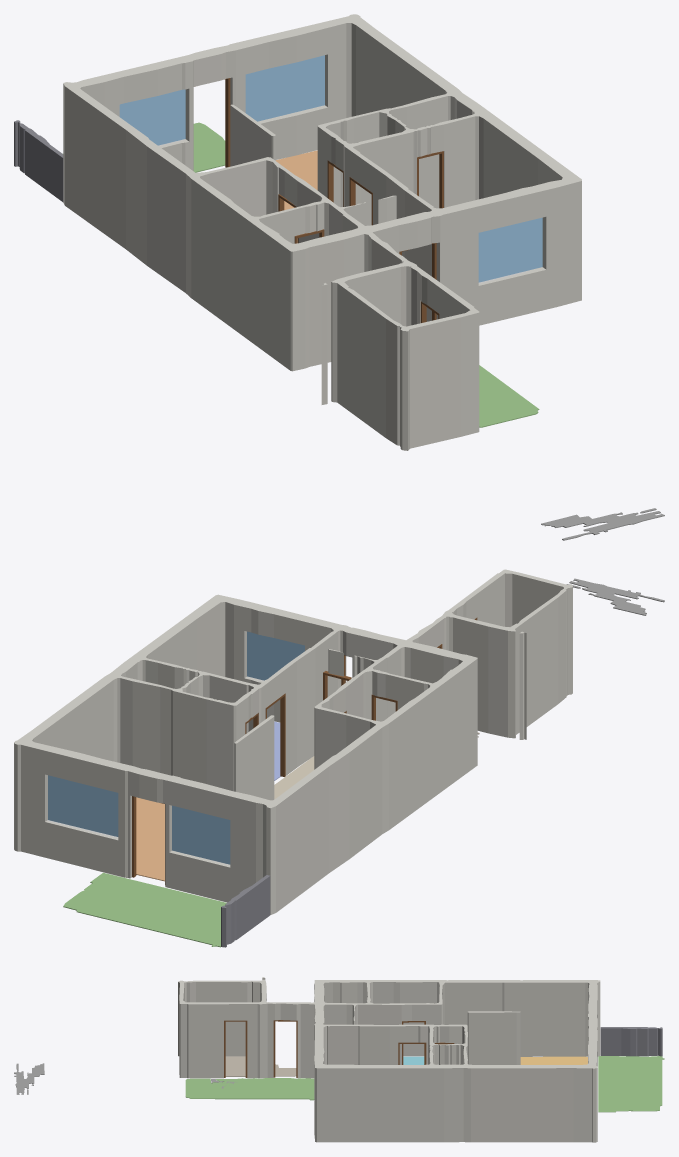
3 views of the same model, one above another, from view 1: azimuth 30°, elevation 25°; view 2: azimuth 150°, elevation 25°; view 3: azimuth 270°, elevation 25° (orthographic). The views are drawn at different scales.
Parts seen in each view (by area): view 1: walls, window_11, window_12, window_10, railings, floor_0_Outdoor, floor_11_Garage, floor_1_Outdoor, floor_3_Living_Room; view 2: walls, floor_1_Outdoor, window_11, window_10, floor_3_Living_Room, railings, window_12, floor_11_Garage, floor_7_Entry; view 3: walls, floor_1_Outdoor, floor_0_Outdoor, railings, floor_2_Kitchen, floor_11_Garage, floor_8_Storage, door_8, door_9.
Part boxes in pixels (bbox=[...]): walls: bbox=[63, 14, 581, 450]; window_11: bbox=[245, 55, 324, 121]; window_12: bbox=[478, 217, 542, 282]; window_10: bbox=[119, 89, 185, 145]; railings: bbox=[14, 120, 63, 201]; floor_0_Outdoor: bbox=[479, 365, 539, 427]; floor_11_Garage: bbox=[541, 508, 664, 540]; floor_1_Outdoor: bbox=[193, 122, 225, 172]; floor_3_Living_Room: bbox=[275, 150, 317, 242]; walls: bbox=[14, 569, 572, 914]; floor_1_Outdoor: bbox=[63, 872, 226, 947]; window_11: bbox=[48, 775, 118, 836]; window_10: bbox=[172, 805, 230, 864]; floor_3_Living_Room: bbox=[136, 797, 164, 881]; railings: bbox=[221, 875, 270, 947]; window_12: bbox=[247, 631, 304, 680]; floor_11_Garage: bbox=[566, 578, 664, 615]; floor_7_Entry: bbox=[274, 756, 314, 799]; walls: bbox=[178, 977, 600, 1142]; floor_1_Outdoor: bbox=[598, 1056, 664, 1112]; floor_0_Outdoor: bbox=[185, 1078, 314, 1100]; railings: bbox=[600, 1027, 662, 1056]; floor_2_Kitchen: bbox=[520, 1056, 587, 1064]; floor_11_Garage: bbox=[14, 1063, 44, 1094]; floor_8_Storage: bbox=[225, 1056, 245, 1076]; door_8: bbox=[273, 1020, 297, 1077]; door_9: bbox=[224, 1020, 247, 1077].
Size of the model in its own units: 7.21 by 2.72 by 21.49.
